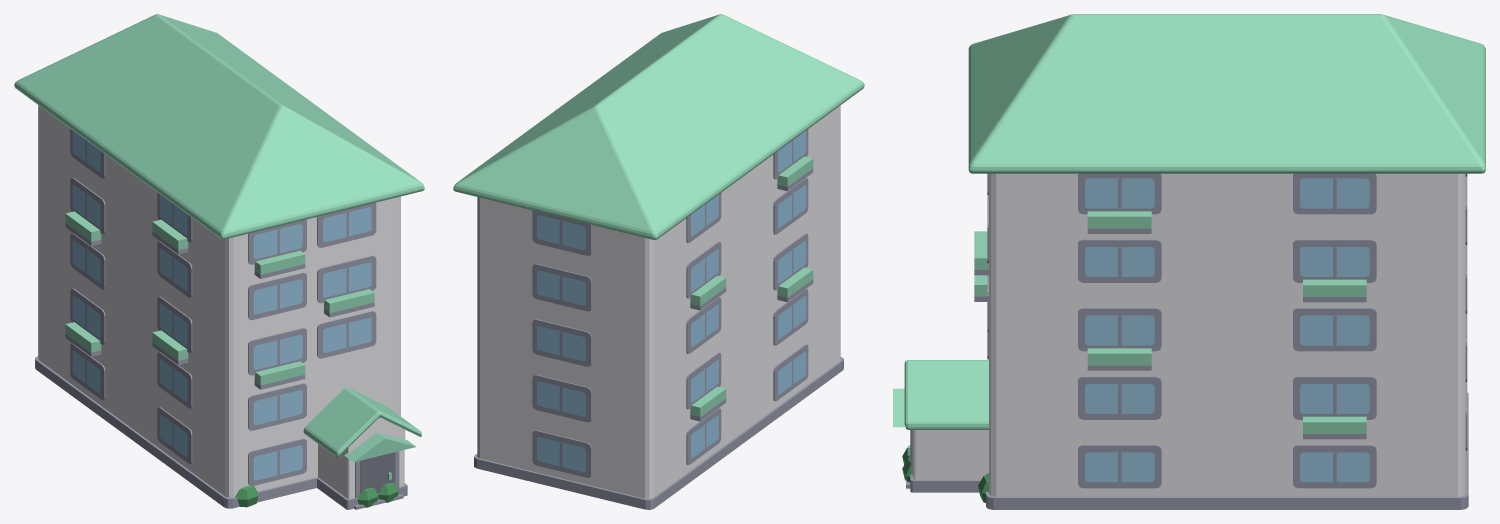
Rendered from house-1x2-5f-mansard-a.glb.
3 renders of one model, left to right at view 1: azimuth 30°, elevation 25°; view 2: azimuth 150°, elevation 25°; view 3: azimuth 270°, elevation 25°, orthographic. The views are drawn at different scales.
Parts seen in each view (by area): view 1: house-1x2-5f-mansard-a; view 2: house-1x2-5f-mansard-a; view 3: house-1x2-5f-mansard-a.
Boxes of the visible parts, left/top/right/bottom form: house-1x2-5f-mansard-a: left=14, top=14, right=424, bottom=509; house-1x2-5f-mansard-a: left=453, top=14, right=864, bottom=509; house-1x2-5f-mansard-a: left=893, top=14, right=1485, bottom=509.
Size of the model in its own units: 1 by 1.68 by 2.04.
Materials: 1 (1 with a texture image).
